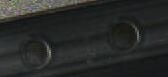joints: (109, 15, 144, 53), (19, 34, 53, 70)
